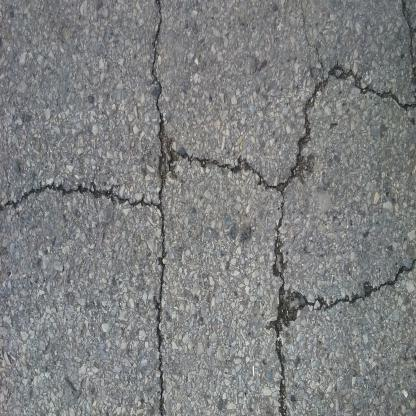Cracks: (269, 0, 415, 416), (149, 0, 177, 416), (161, 128, 296, 204), (1, 167, 171, 218)
